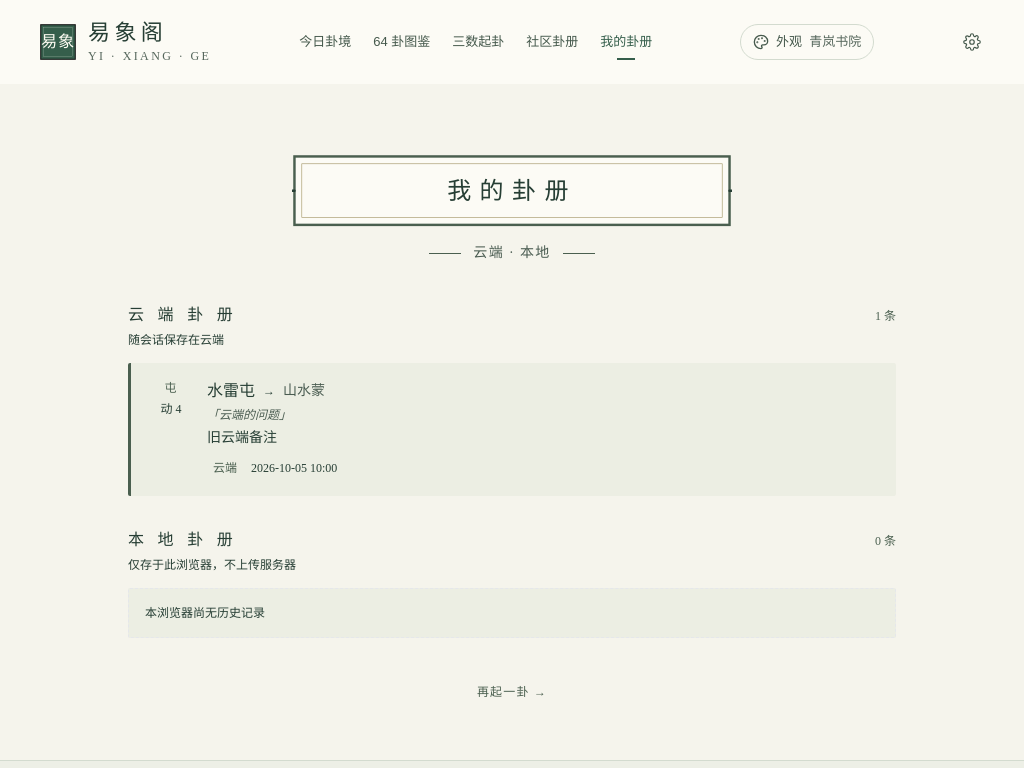
Test: Records page › cancels a pending delete without removing anything
Click the button "水雷屯".
click(231, 390)  # box x1=128 y1=362 x2=896 y2=496
(page scrolled)
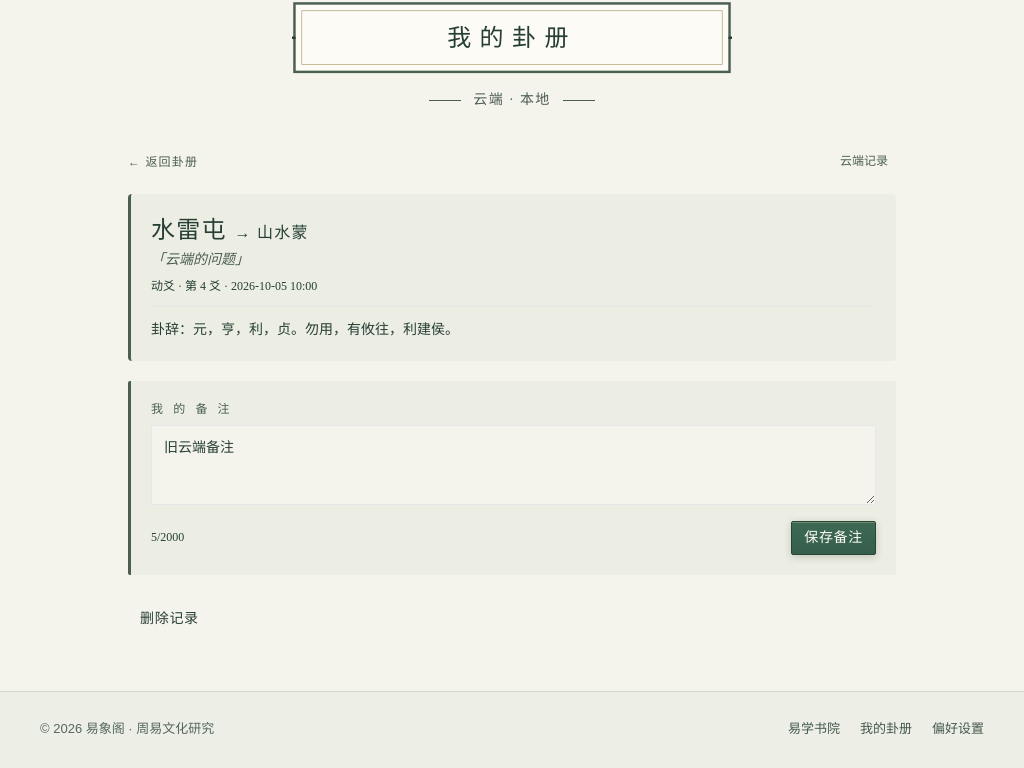
Click the button "删除记录".
click(169, 619)  # box x1=128 y1=603 x2=211 y2=635
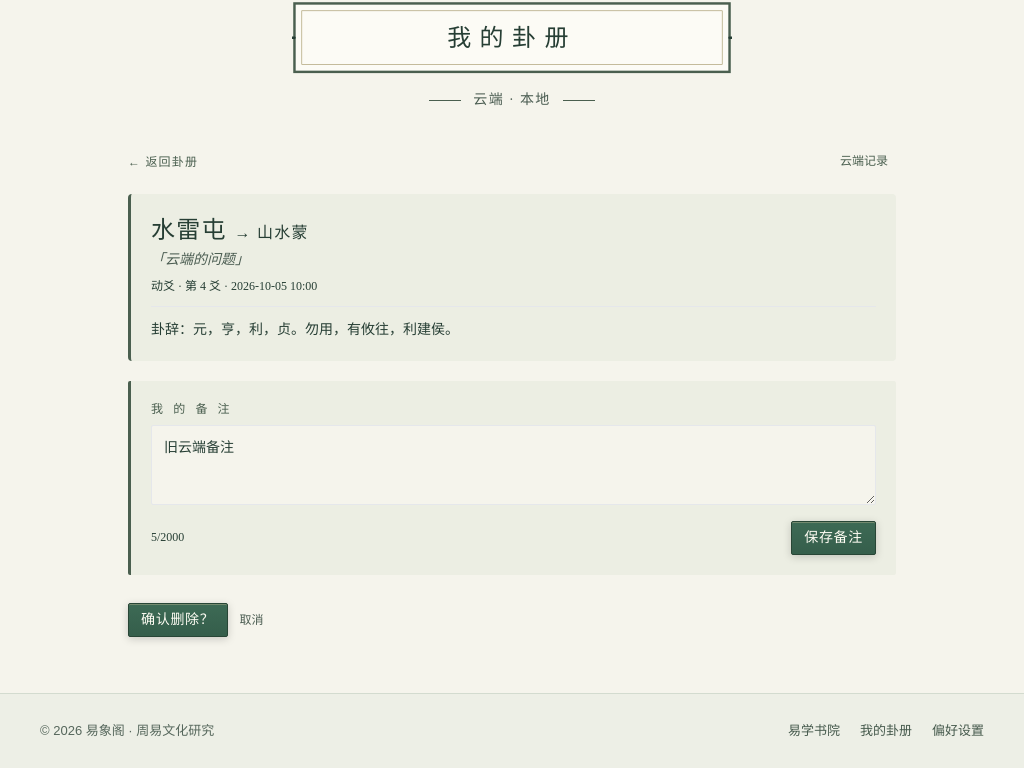
Click the button "取消".
click(252, 620)  # box x1=240 y1=612 x2=264 y2=628
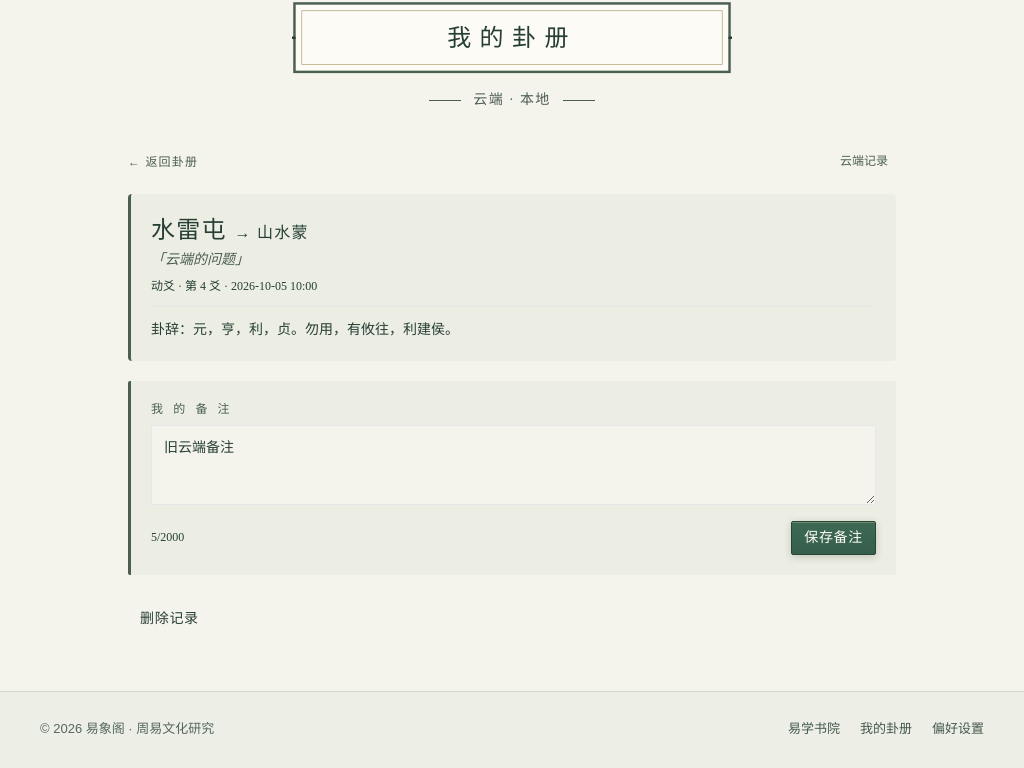
Now the button "确认删除？" is gone
